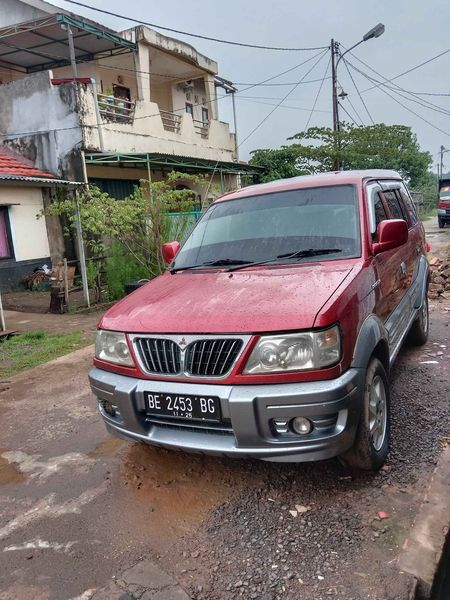plate: (139, 389, 227, 423)
